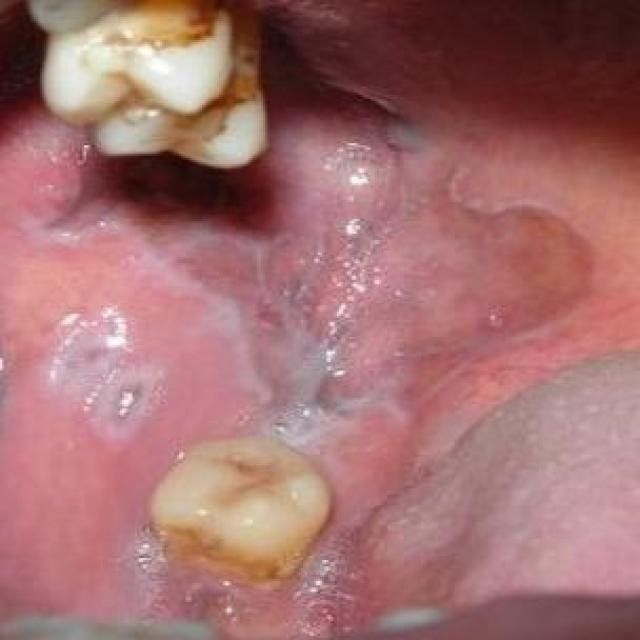leukoplakia-like-detection: (119, 136, 598, 450), (29, 304, 175, 453)
processing_area: (4, 116, 630, 622)
